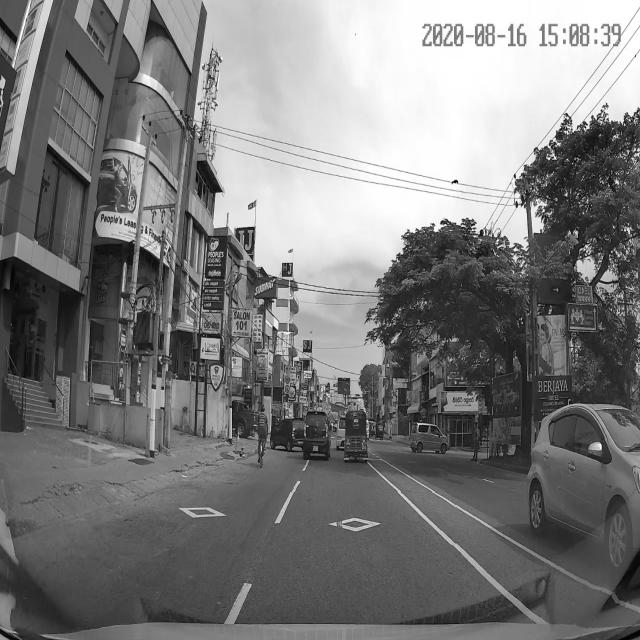diamond: (260, 492, 456, 545)
